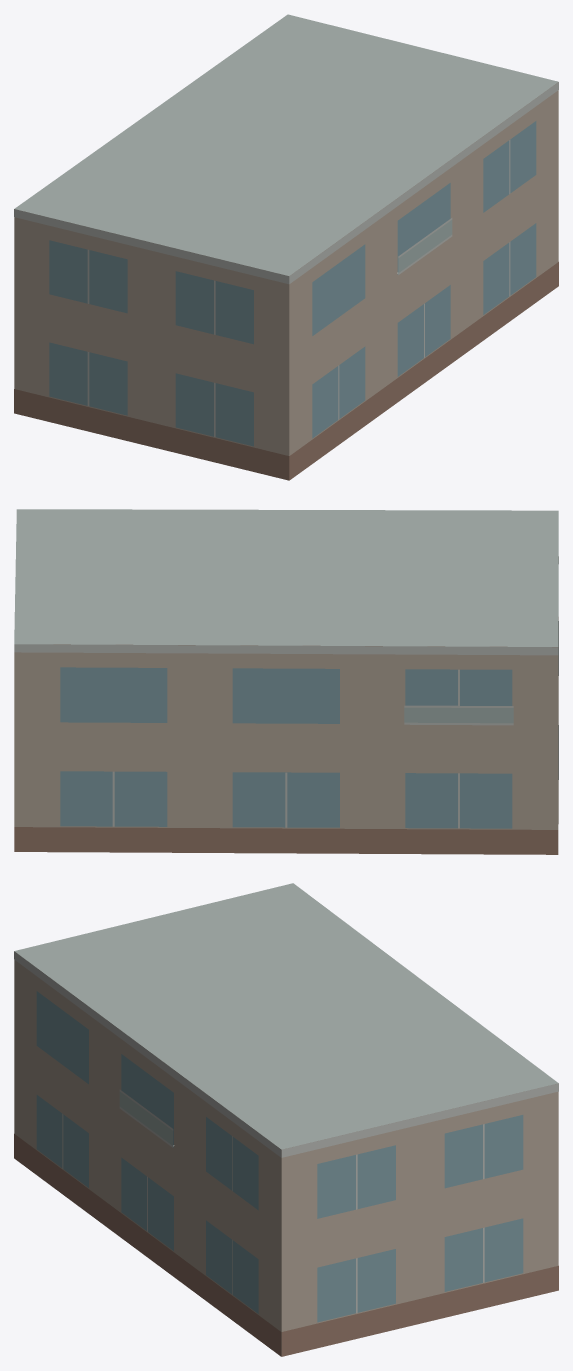
The model's file is survey-upis-32694478.glb.
3 views of the same model, one above another, from view 1: azimuth 30°, elevation 25°; view 2: azimuth 150°, elevation 25°; view 3: azimuth 270°, elevation 25° (orthographic).
Parts seen in each view (by area): view 1: survey-upis-32694478.tmp; view 2: survey-upis-32694478.tmp; view 3: survey-upis-32694478.tmp.
Boxes of the visible parts, box(x1,y1,x2,y2) form: survey-upis-32694478.tmp: box(14, 14, 558, 480); survey-upis-32694478.tmp: box(14, 509, 558, 854); survey-upis-32694478.tmp: box(14, 883, 558, 1356).
Bounding box in the file's own units: 16.84 × 6.1 × 14.54.
